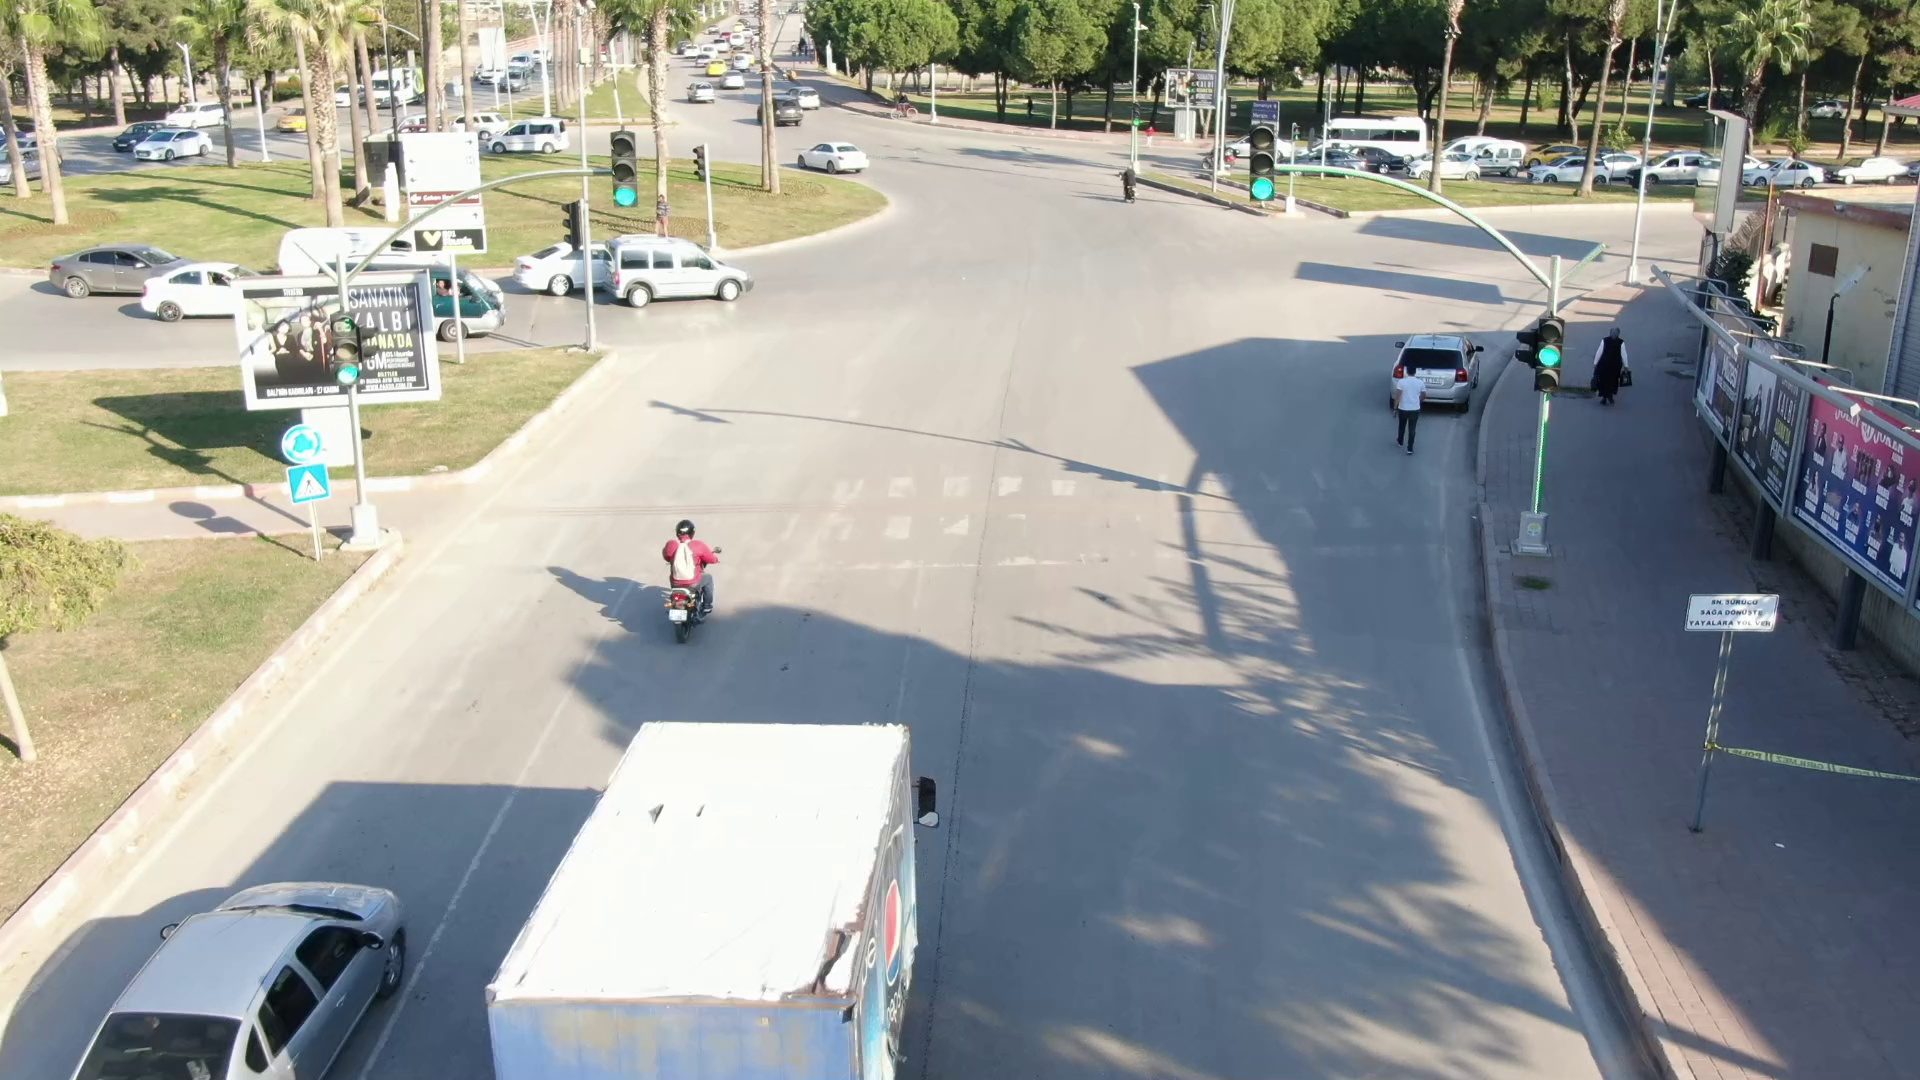car: (44, 817, 473, 1080), (50, 228, 214, 329), (598, 227, 768, 320), (483, 105, 575, 165), (794, 139, 881, 187), (134, 121, 219, 172), (683, 74, 720, 114)
person: (643, 498, 734, 622), (1582, 314, 1650, 416), (1379, 349, 1442, 454)
